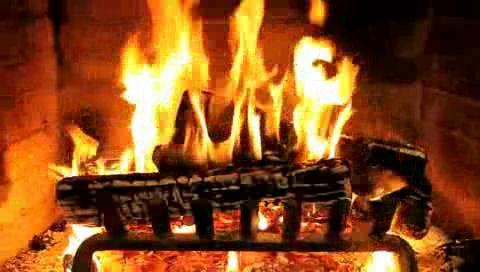fire: (115, 1, 359, 174)
